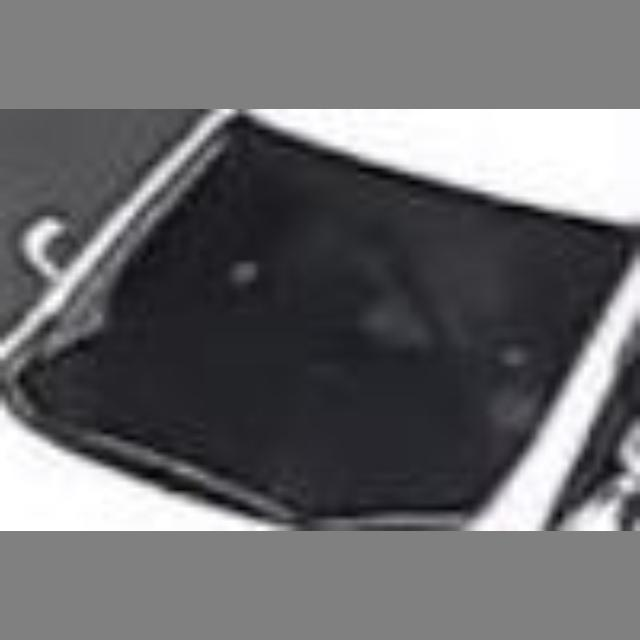pakai: (288, 192, 474, 371)
